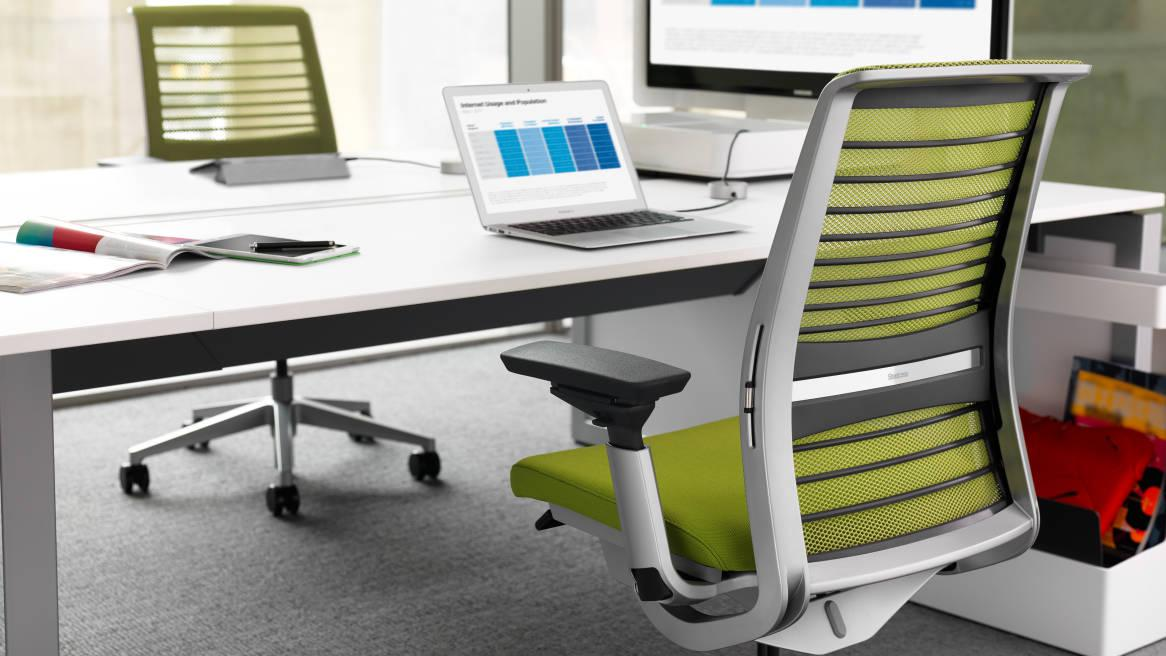chair: (473, 28, 1093, 651), (99, 5, 466, 533)
